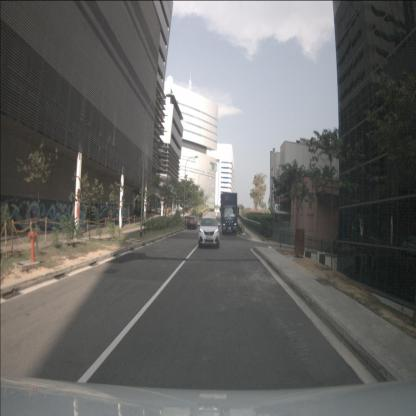vehicle-car: (198, 217, 220, 248), (187, 216, 198, 229)
vehicle-truck: (221, 193, 237, 235)
